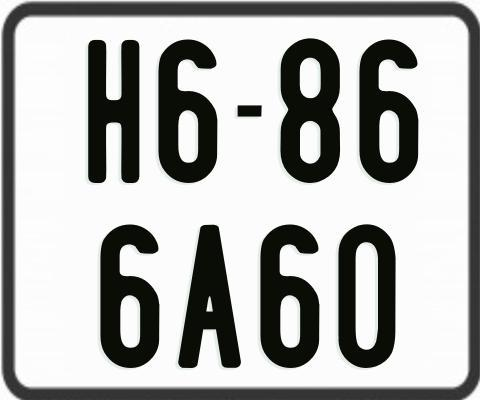0: (335, 222, 398, 371)
6: (357, 40, 422, 188), (99, 223, 162, 371), (157, 40, 219, 188), (260, 225, 321, 373)
8: (280, 35, 342, 180)
A: (178, 223, 245, 369)
H: (85, 39, 139, 185)
